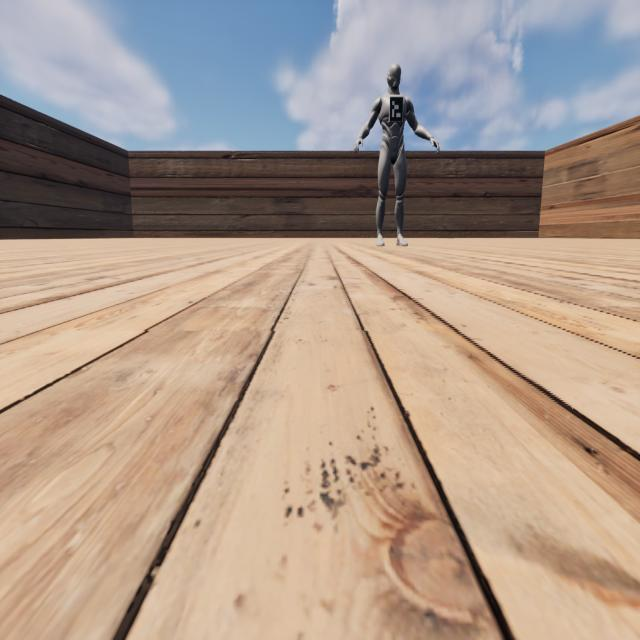aruco: (390, 97, 403, 122)
hip: (380, 142, 404, 152)
